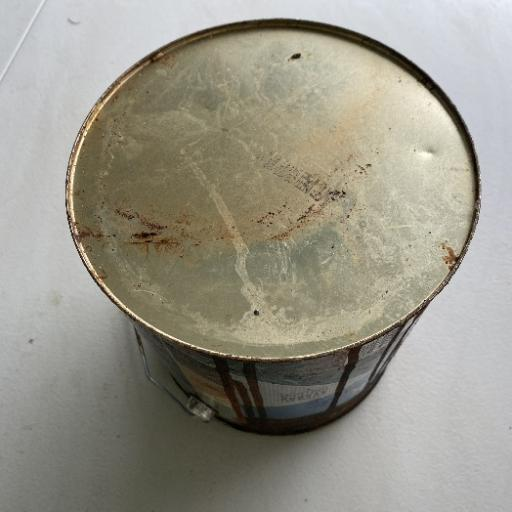Metal: (62, 16, 482, 436)
